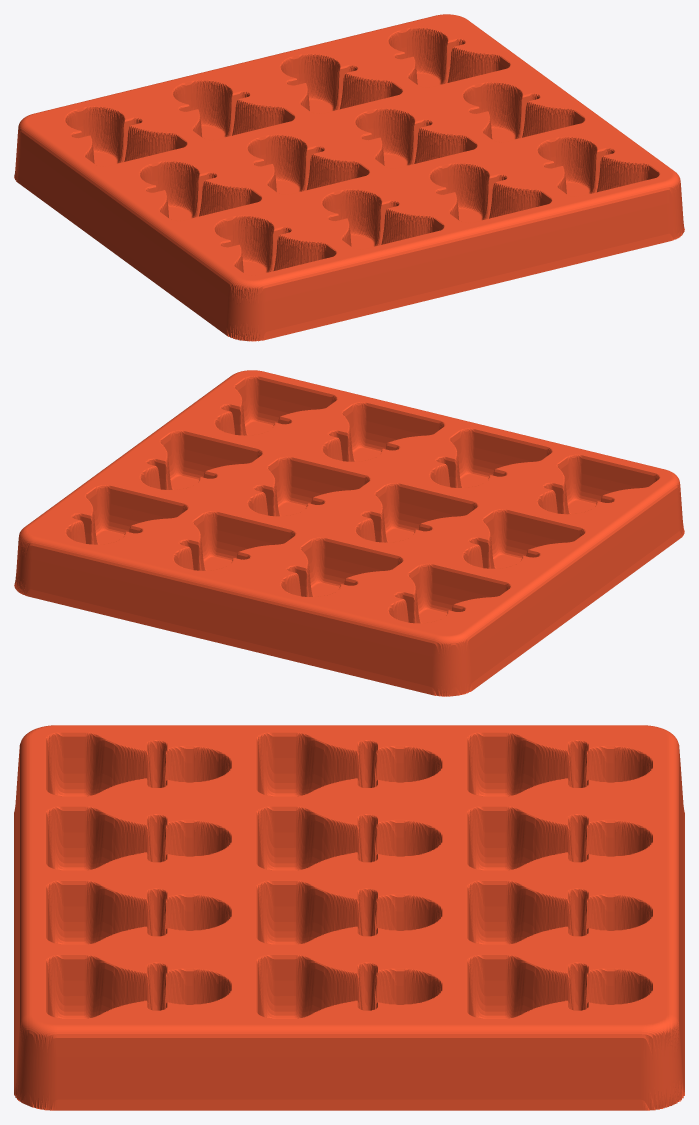
Rendered from mold.glb.
3 renders of one model, top to bottom at view 1: azimuth 30°, elevation 25°; view 2: azimuth 150°, elevation 25°; view 3: azimuth 270°, elevation 25°, orthographic. The views are drawn at different scales.
Parts seen in each view (by area): view 1: geometry_0; view 2: geometry_0; view 3: geometry_0.
Part boxes in pixels (bbox=[...]): geometry_0: bbox=[14, 14, 684, 341]; geometry_0: bbox=[14, 370, 684, 696]; geometry_0: bbox=[14, 725, 684, 1110].
Bounding box in the file's own units: 0.1557 × 0.0182 × 0.141.
